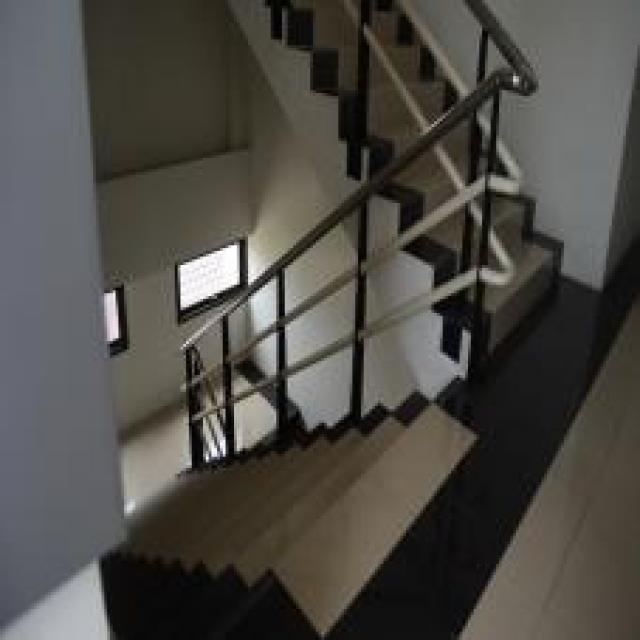downstair: (187, 480, 463, 638)
